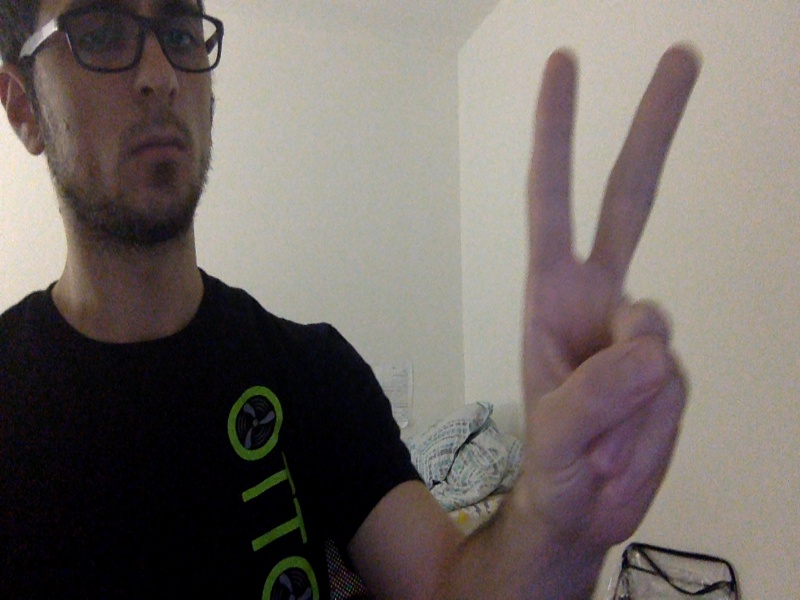2-hand: (525, 44, 707, 545)
